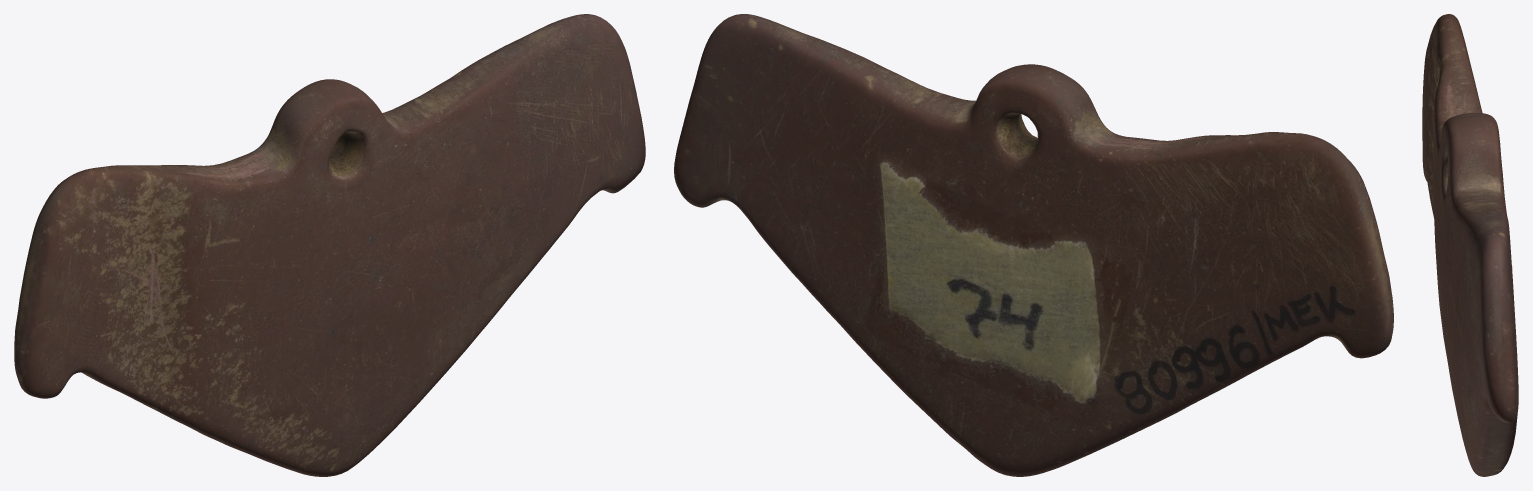
The model's file is tairona_culture_zoomorphic_pendant__bat.lod2.glb.
3 renders of one model, left to right at view 1: azimuth 30°, elevation 25°; view 2: azimuth 150°, elevation 25°; view 3: azimuth 270°, elevation 25°, orthographic. The views are drawn at different scales.
Parts seen in each view (by area): view 1: Object_4, Object_2, Object_3; view 2: Object_2, Object_4, Object_3; view 3: Object_4, Object_2, Object_3.
Boxes of the visible parts, bbox=[...] form: Object_4: bbox=[17, 14, 645, 476]; Object_2: bbox=[14, 18, 565, 394]; Object_3: bbox=[327, 128, 369, 189]; Object_2: bbox=[674, 19, 1391, 476]; Object_4: bbox=[674, 14, 1393, 442]; Object_3: bbox=[992, 111, 1045, 169]; Object_4: bbox=[1422, 14, 1514, 476]; Object_2: bbox=[1444, 14, 1518, 475]; Object_3: bbox=[1441, 149, 1448, 202].
Bounding box in the file's own units: 2.6 × 1.48 × 0.3692.
1 material, 1 textured.
